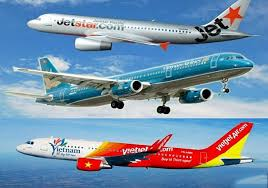maybay_dansu: (18, 58, 268, 111), (16, 120, 268, 172), (30, 4, 263, 50)
